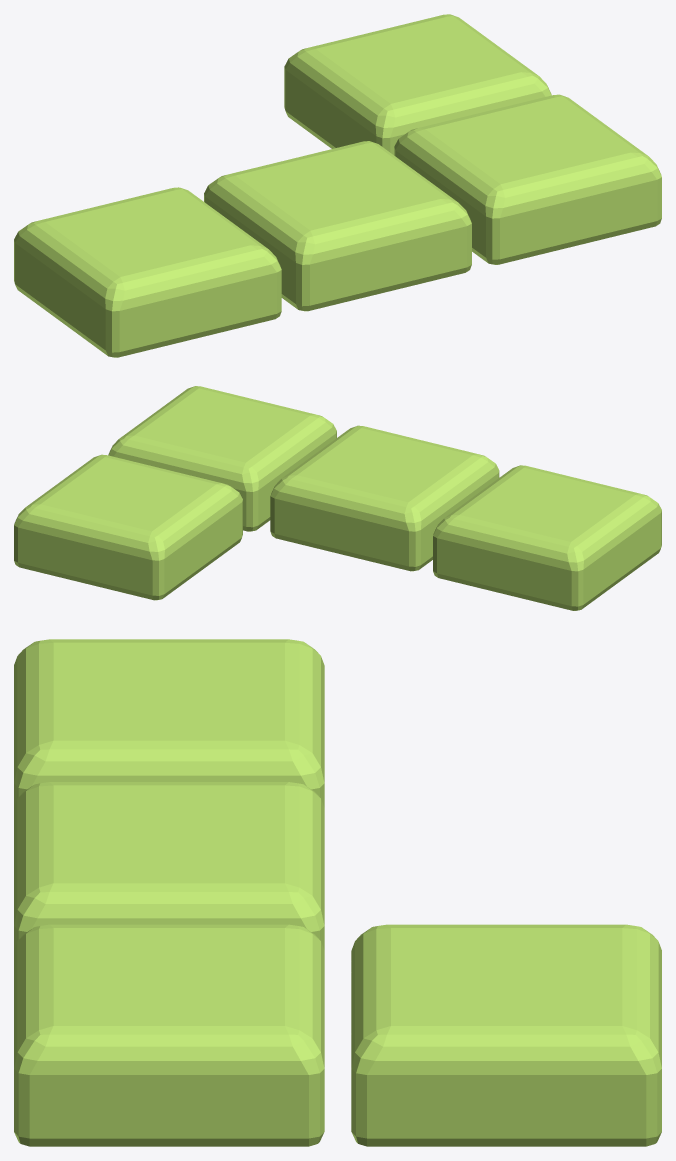
File: KO_Tetris_7.fbx
3 renders of one model, top to bottom at view 1: azimuth 30°, elevation 25°; view 2: azimuth 150°, elevation 25°; view 3: azimuth 270°, elevation 25°, orthographic. The views are drawn at different scales.
Visible parts, largest first — view 1: Tetris_L; view 2: Tetris_L; view 3: Tetris_L.
Boxes of the visible parts, x1,y1,x2,y2 form: Tetris_L: [14, 14, 661, 357]; Tetris_L: [14, 386, 661, 610]; Tetris_L: [14, 639, 661, 1146].
Size of the model in its own units: 292 by 36 by 192.
